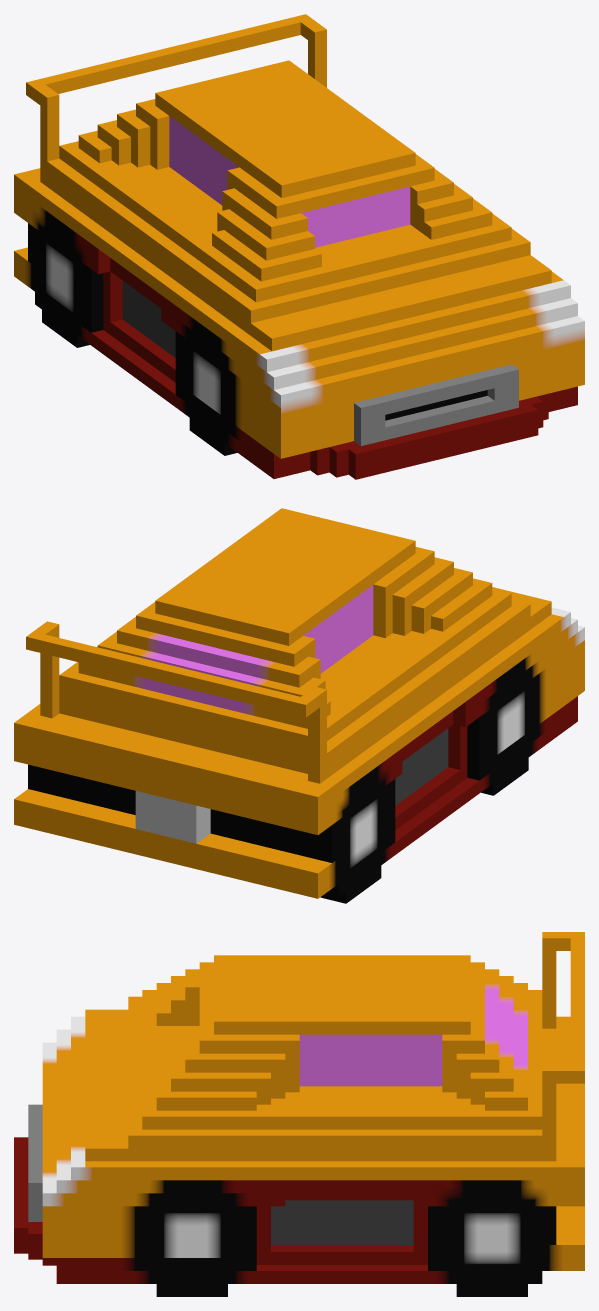
Rendered from Car_24.fbx.
The picture shows the model from 3 angles, top to bottom: view 1: azimuth 30°, elevation 25°; view 2: azimuth 150°, elevation 25°; view 3: azimuth 270°, elevation 25°; orthographic projection.
Visible parts, largest first — view 1: Car_24; view 2: Car_24; view 3: Car_24.
Boxes of the visible parts, <box> form: Car_24: <box>14,14,584,479</box>; Car_24: <box>14,508,584,903</box>; Car_24: <box>14,932,584,1296</box>.
Size of the model in its own units: 25 by 18 by 40.
Materials: 1 (1 with a texture image).
